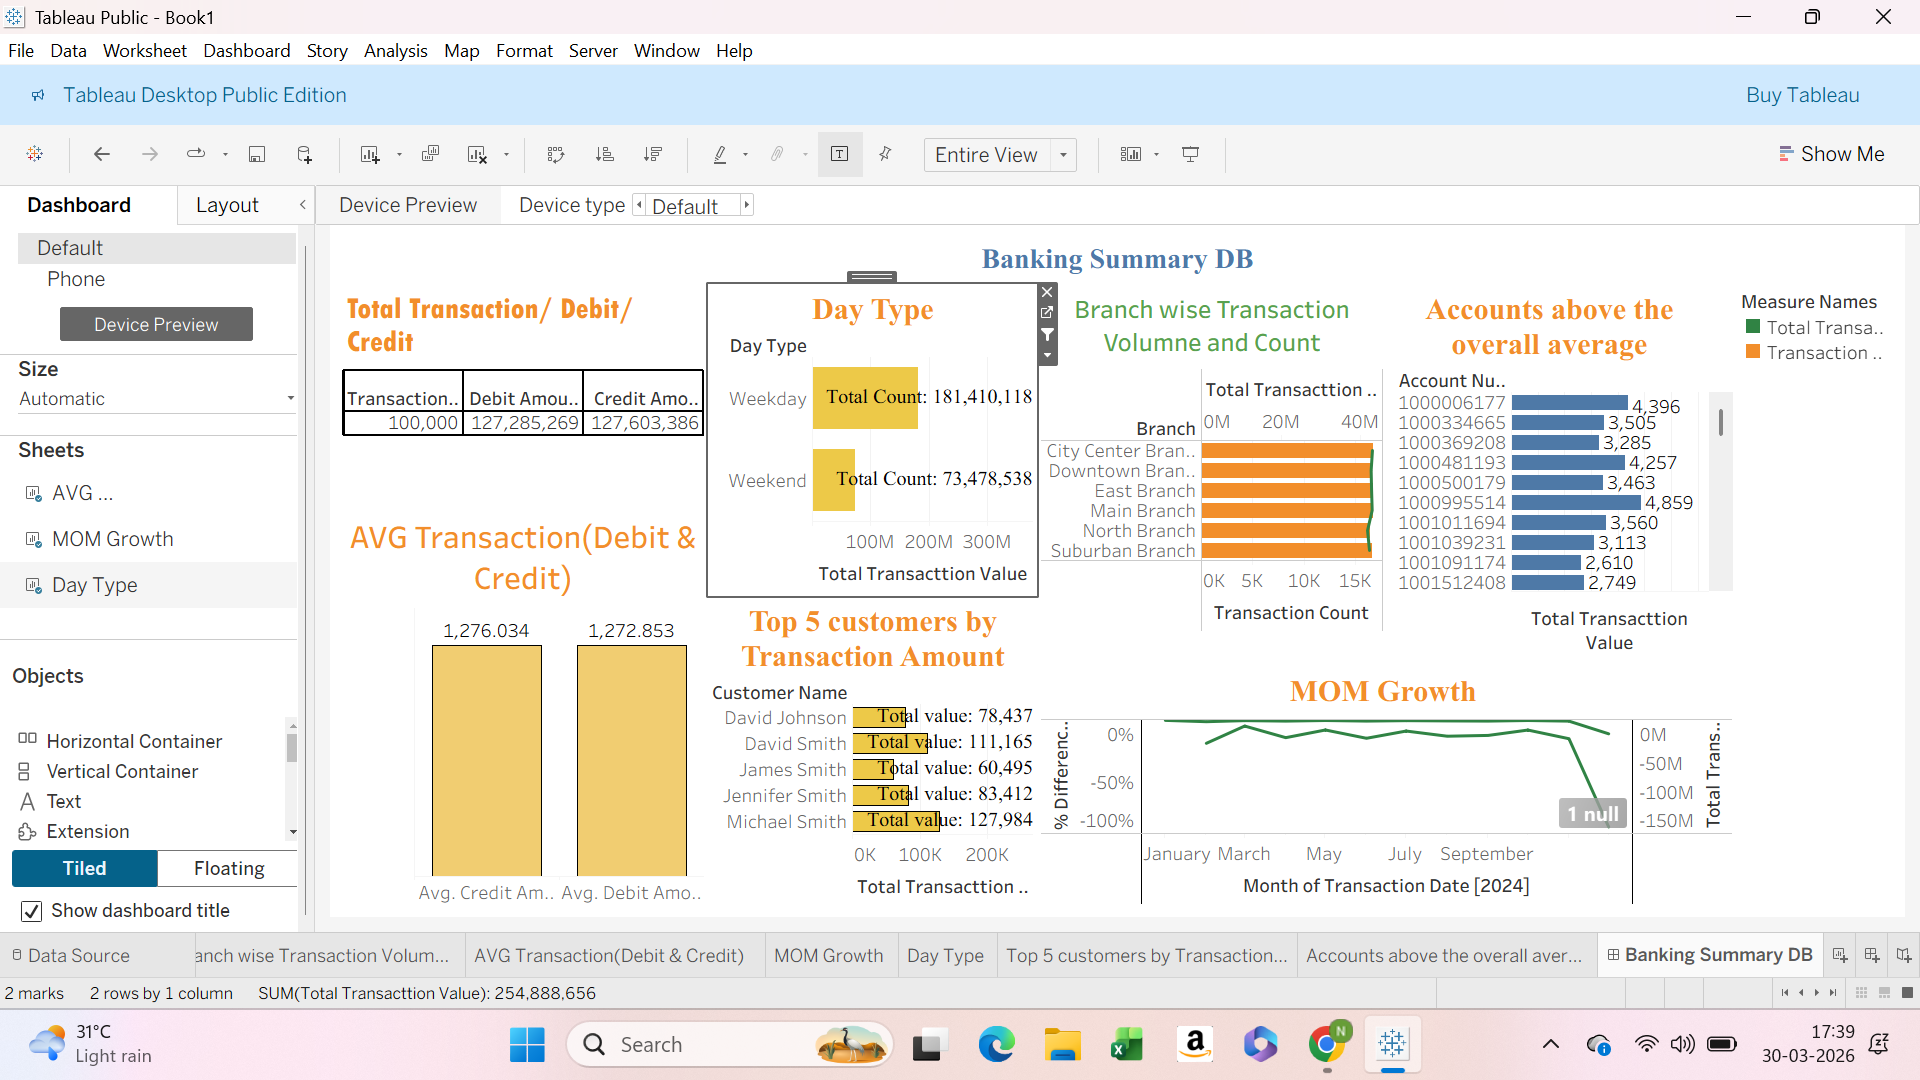

Layout of this report page (visuals, bound fields, positions):
{"tool":"tableau","page":{"name":"Banking Summary DB","canvas":[1000,1000],"units":"permille","ordinal":0},"visuals":[{"type":"title","box":[5.1,11.6,989.8,73.7]},{"type":"worksheet","title":"Total Transaction/ Debit/Credit","mark":"Automatic","box":[5.1,85.3,234.9,321.9]},{"type":"worksheet","title":"Day Type","mark":"Automatic","rows":["Calculation_140456067671904257"],"cols":["Calculation_140456067671764992"],"box":[240,85.3,209.2,451.6]},{"type":"worksheet","title":"Branch wise Transaction Volumne and Count","mark":"Automatic","rows":["Branch"],"cols":["Transaction_Count","Calculation_140456067671764992"],"box":[449.2,85.3,222.1,551.8]},{"type":"worksheet","title":"Accounts above the overall average","mark":"Automatic","rows":["Account_Number"],"cols":["Calculation_140456067671764992"],"box":[671.2,85.3,222.1,551.8]},{"type":"legend","title":"Branch wise Transaction Volumne and Count","param":"[federated.0ic31dl0lj6txr16h21y41b2kclp].[:Measure Names]","box":[893.3,85.3,101.6,121.4]},{"type":"worksheet","title":"AVG Transaction(Debit & Credit)","mark":"Automatic","box":[5.1,407.2,234.9,581.2]},{"type":"worksheet","title":"Top 5 customers by Transaction Amount","mark":"Automatic","rows":["Customer_Name"],"cols":["Calculation_140456067671764992"],"box":[240,536.8,209.2,451.6]},{"type":"worksheet","title":"MOM Growth","mark":"Automatic","rows":["Calculation_140456067671764992","Calculation_140456067671764992"],"cols":["Transaction_Date"],"box":[449.2,637,444.1,351.4]}]}

Visuals, with their boxes on the dashboard's canvas, which has no fixed pixel size, in thousandths of its width and height (x1, y1, x2, y2). These are canvas units, not pixel positions in the 1920x1080 screenshot, which may show the page scaled, cropped or inside an application window:
title: bbox=[5, 12, 995, 85]
"Total Transaction/ Debit/Credit" worksheet: bbox=[5, 85, 240, 407]
"Day Type" worksheet: bbox=[240, 85, 449, 537]
"Branch wise Transaction Volumne and Count" worksheet: bbox=[449, 85, 671, 637]
"Accounts above the overall average" worksheet: bbox=[671, 85, 893, 637]
"Branch wise Transaction Volumne and Count" legend: bbox=[893, 85, 995, 207]
"AVG Transaction(Debit & Credit)" worksheet: bbox=[5, 407, 240, 988]
"Top 5 customers by Transaction Amount" worksheet: bbox=[240, 537, 449, 988]
"MOM Growth" worksheet: bbox=[449, 637, 893, 988]
